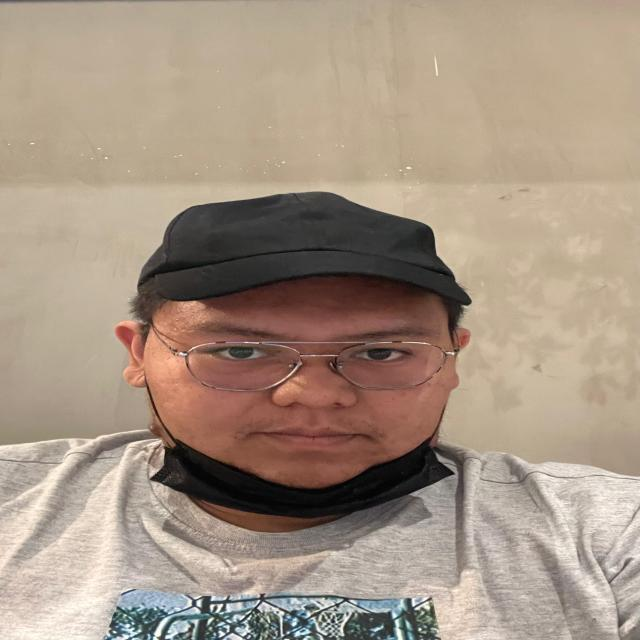3_gorra: (136, 188, 478, 310)
